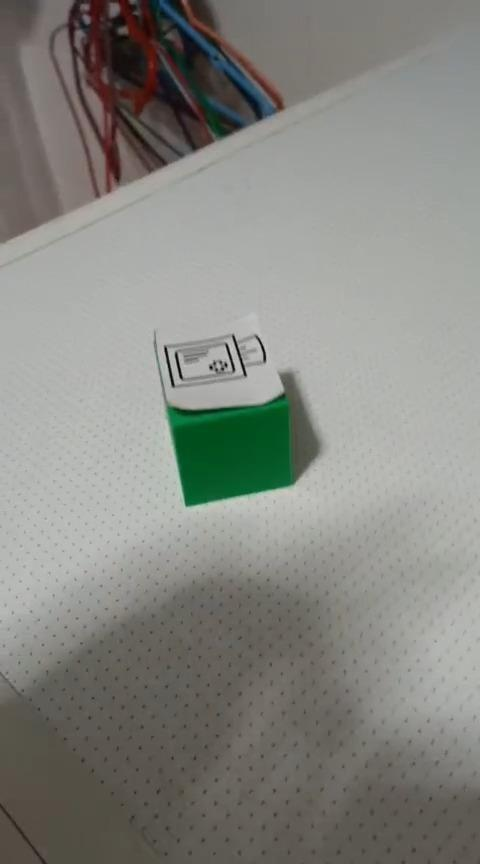Gauze: (151, 311, 295, 507)
